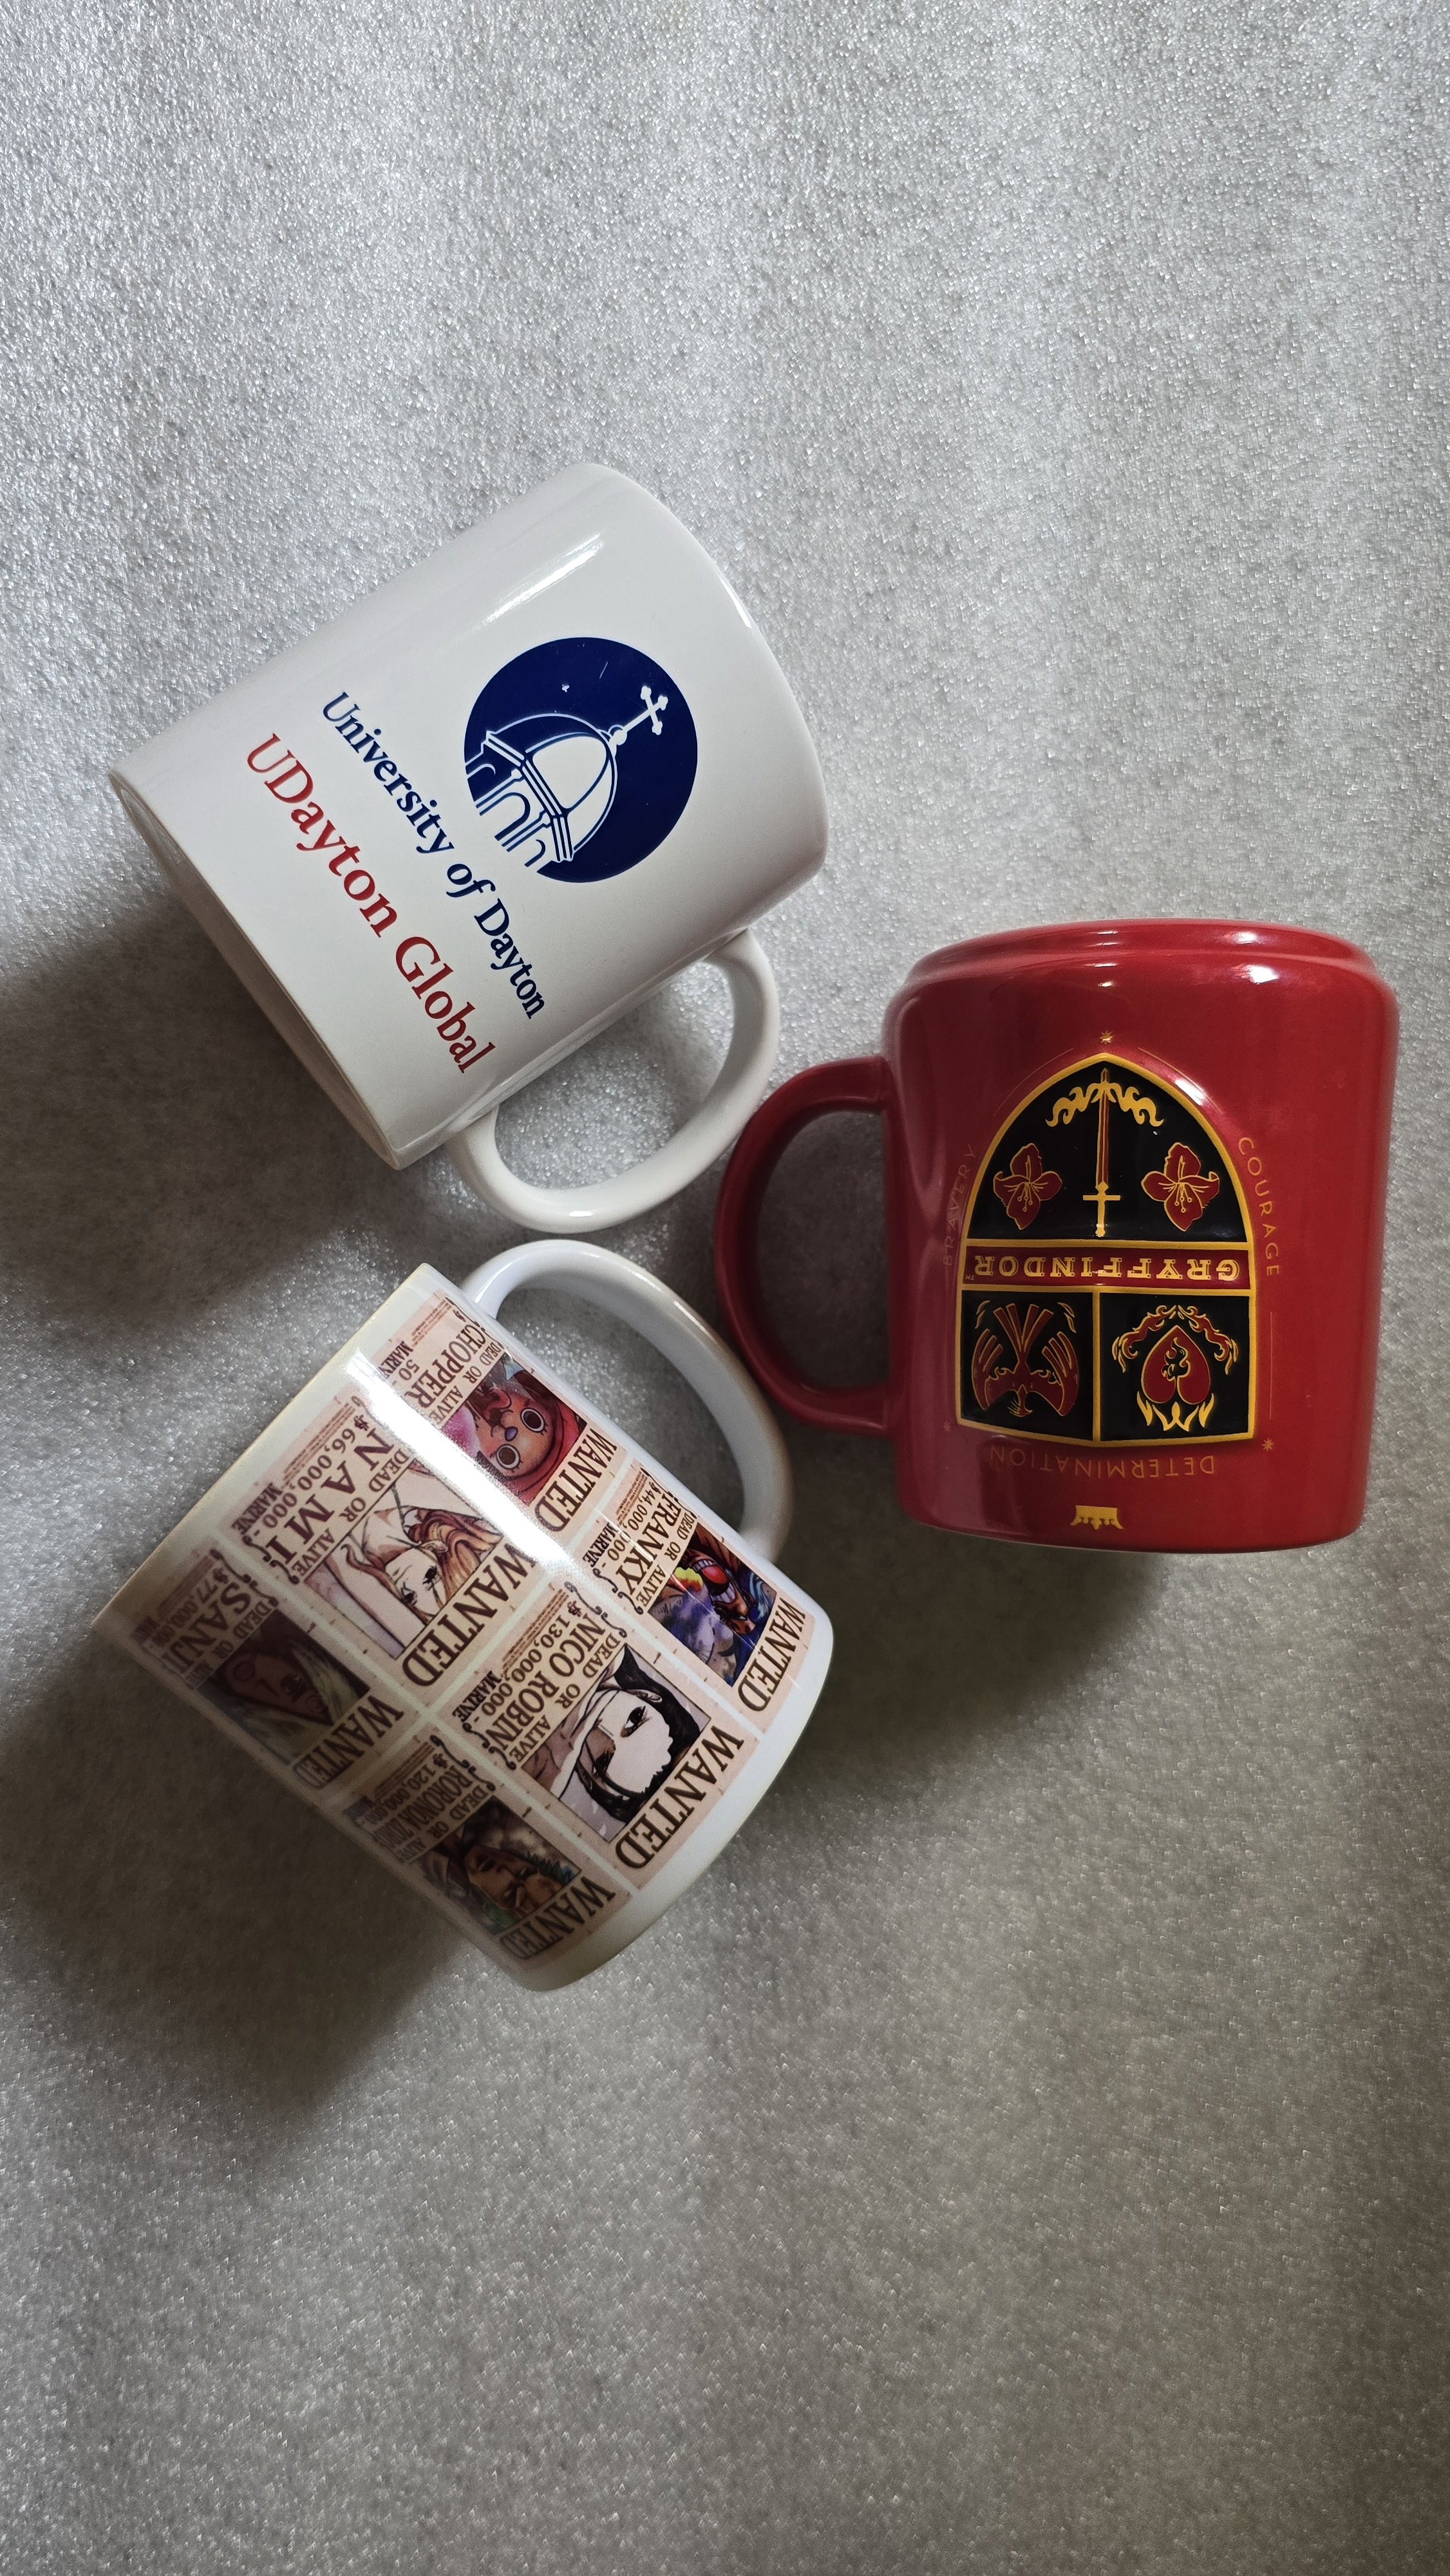mug: (111, 1217, 893, 1999), (97, 441, 859, 1242), (753, 911, 1413, 1605)
